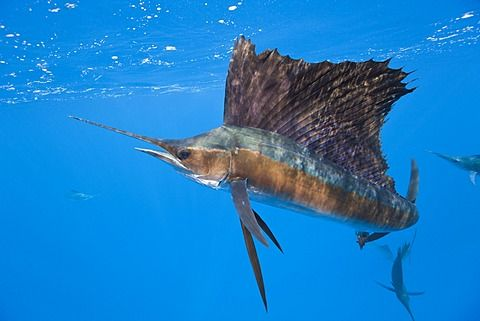swordfish: (52, 28, 432, 253)
